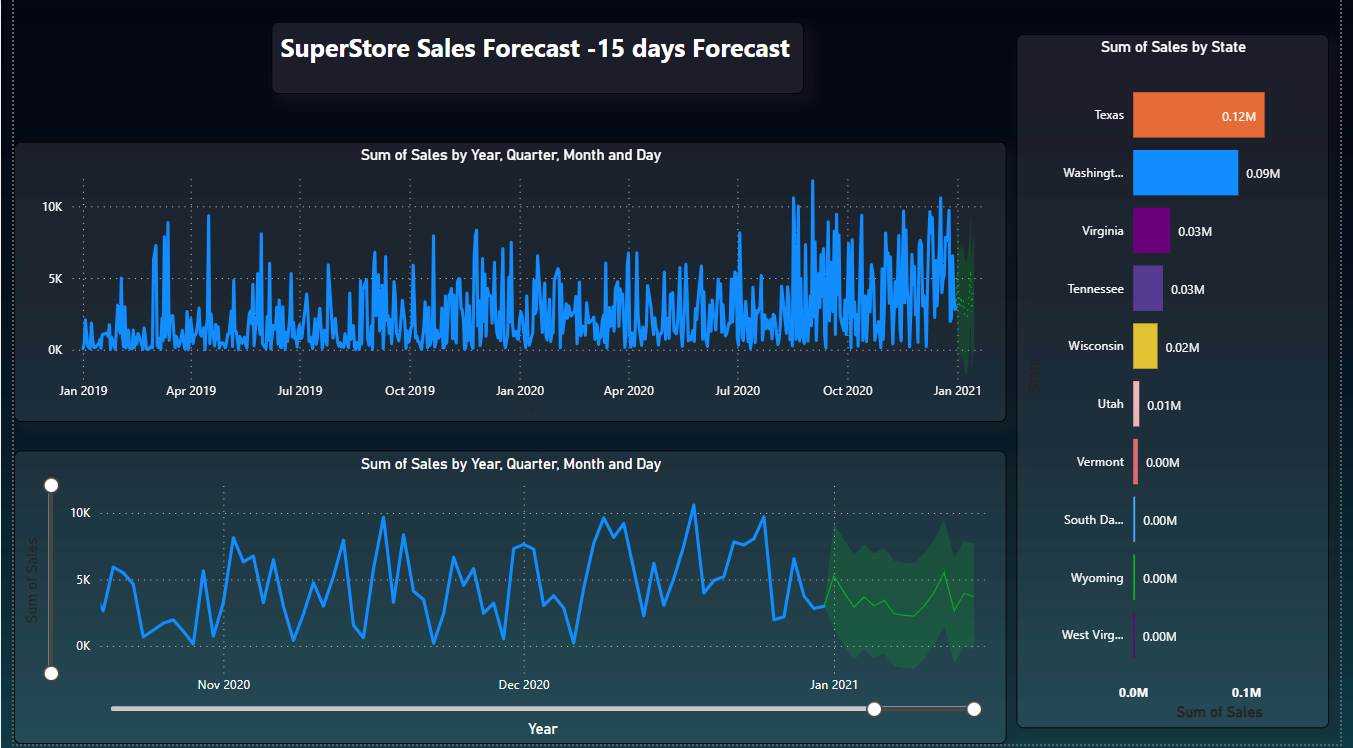

This screenshot's page, from the dashboard's own definition file:
{"tool":"powerbi","page":{"name":"Page 2","canvas":[1280,720],"ordinal":1},"visuals":[{"type":"lineChart","fields":{"Y":["Sum(SuperStore_Sales_Dataset.Sales)"],"Category":["SuperStore_Sales_Dataset.Order Date.Variation.Date Hierarchy.Year","SuperStore_Sales_Dataset.Order Date.Variation.Date Hierarchy.Quarter","SuperStore_Sales_Dataset.Order Date.Variation.Date Hierarchy.Month","SuperStore_Sales_Dataset.Order Date.Variation.Date Hierarchy.Day"]},"box":[0,436.6,957.6,283.4],"z":0},{"type":"lineChart","fields":{"Y":["Sum(SuperStore_Sales_Dataset.Sales)"],"Category":["SuperStore_Sales_Dataset.Order Date.Variation.Date Hierarchy.Year","SuperStore_Sales_Dataset.Order Date.Variation.Date Hierarchy.Quarter","SuperStore_Sales_Dataset.Order Date.Variation.Date Hierarchy.Month","SuperStore_Sales_Dataset.Order Date.Variation.Date Hierarchy.Day"]},"box":[0,138.7,957.6,270.2],"z":1000},{"type":"clusteredBarChart","fields":{"Y":["Sum(SuperStore_Sales_Dataset.Sales)"],"Category":["SuperStore_Sales_Dataset.State"]},"box":[967.2,35,301.5,669.3],"z":2000},{"type":"textbox","box":[248.4,22.9,513.8,69.9],"z":3000}]}

Visuals, with their boxes in screenshot pixels (x1, y1, x2, y2), scaled from the page's 1280x720 canvas onto the 1353x748 screenshot:
lineChart - Sum(SuperStore_Sales_Dataset.Sales) x SuperStore_Sales_Dataset.Order Date.Variation.Date Hierarchy.Year: box=[0, 454, 1012, 747]
lineChart - Sum(SuperStore_Sales_Dataset.Sales) x SuperStore_Sales_Dataset.Order Date.Variation.Date Hierarchy.Year: box=[0, 144, 1012, 425]
clusteredBarChart - Sum(SuperStore_Sales_Dataset.Sales) x SuperStore_Sales_Dataset.State: box=[1022, 36, 1341, 732]
textbox: box=[263, 24, 806, 96]
